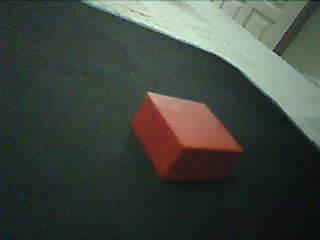lego: (131, 91, 245, 181)
